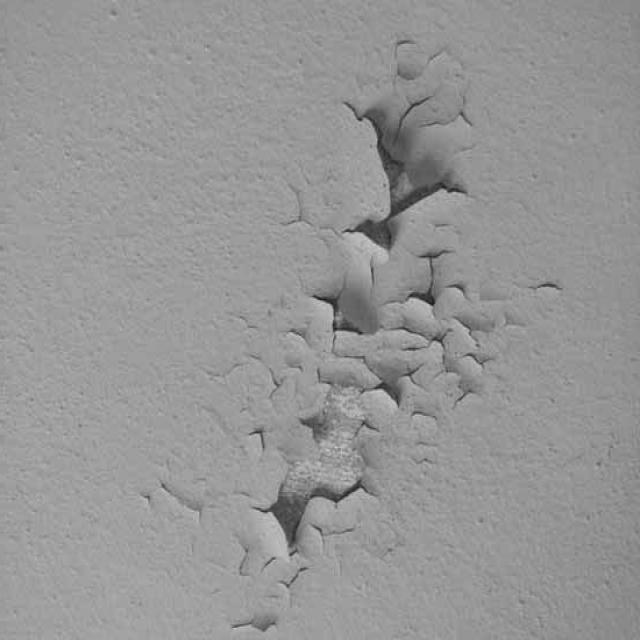peeling paint: (116, 17, 588, 640)
